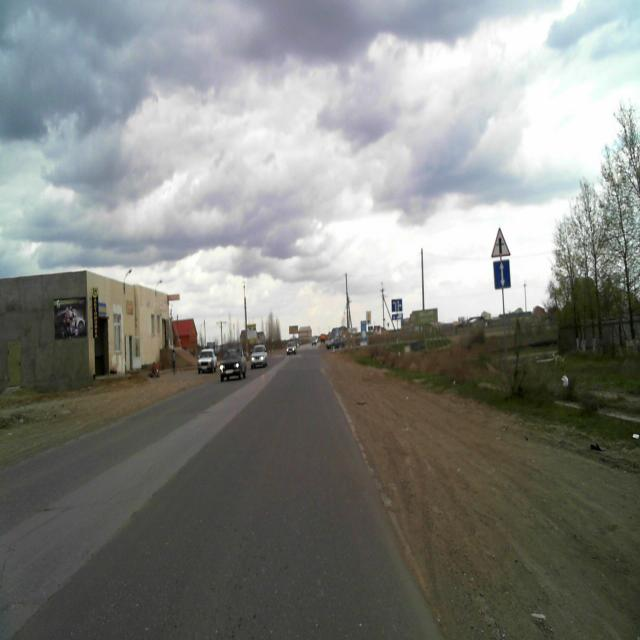road sign: (491, 226, 509, 257), (493, 260, 511, 289), (392, 298, 402, 312)
